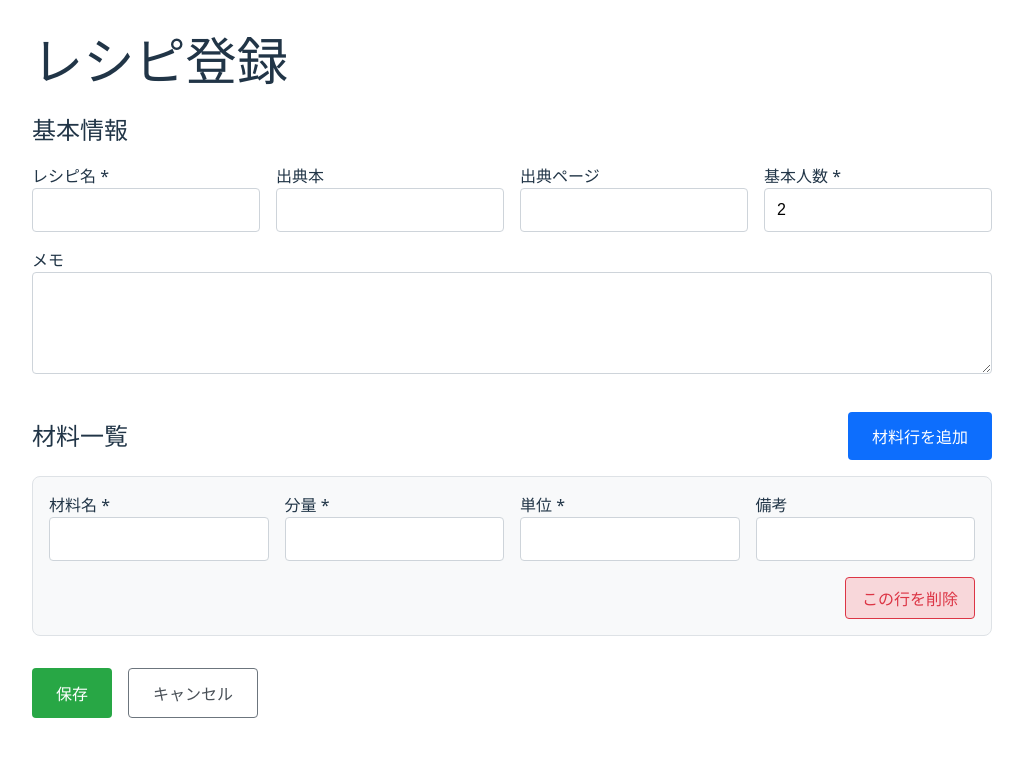
Test case: RecipeNewPage › 材料行を追加・削除し最後の1行を残す
The width and height of the screenshot is (1024, 768).
Expected: the number of fields labelled "材料名 *" is 1, [49,517,268,561]
Expected: the button "この行を削除" is disabled, [845,577,975,619]
Click the button "材料行を追加". click: (920, 436)
box: [848,412,992,460]
(page scrolled)
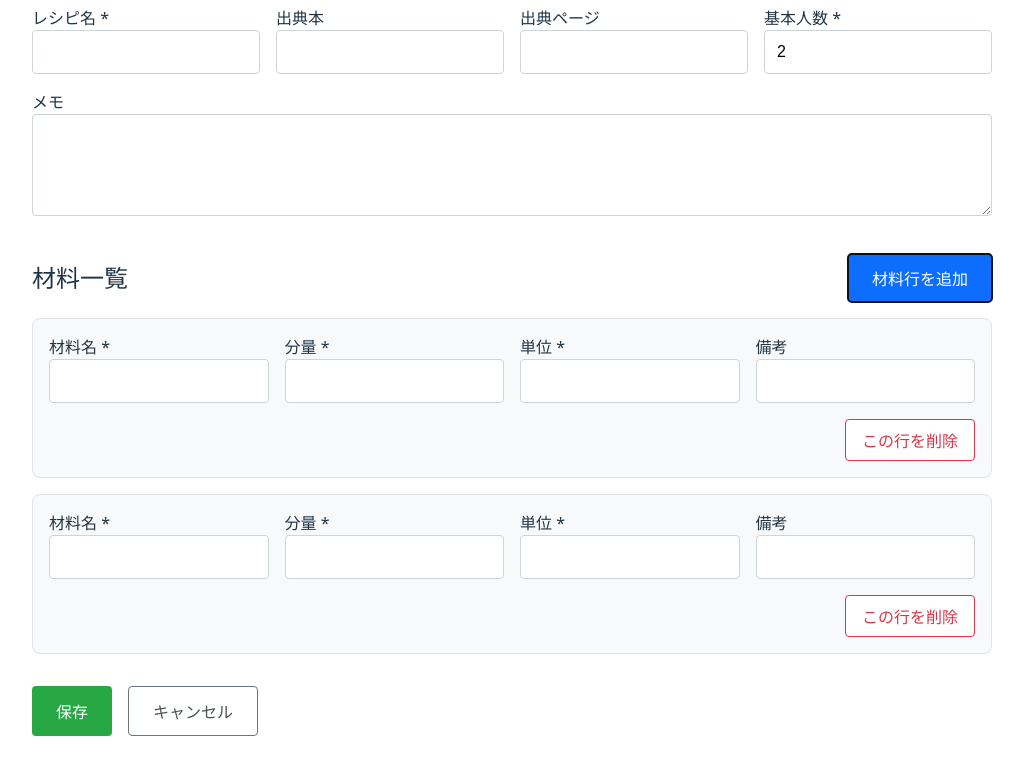
Now the number of fields labelled "材料名 *" is 2, box [49,359,268,403]; [49,535,268,579]
Click the 2nd button "この行を削除". click: (910, 616)
box: [845,595,975,637]
(page scrolled)
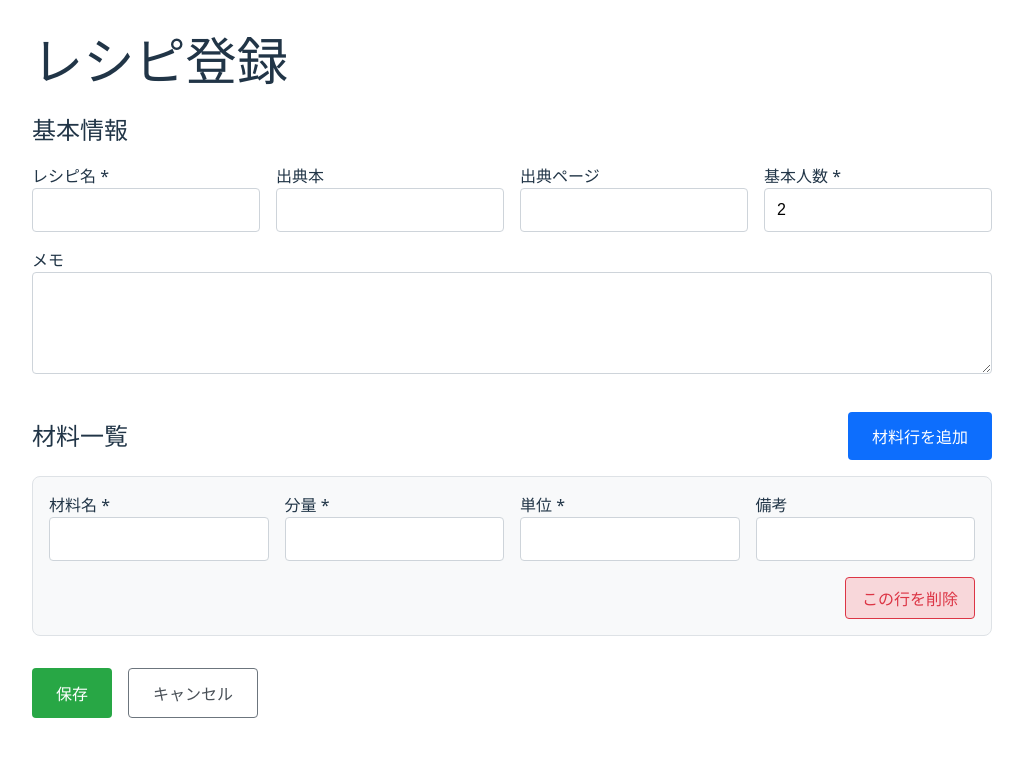
Now the number of fields labelled "材料名 *" is 1, box [49,517,268,561]
Now the button "この行を削除" is disabled, box [845,577,975,619]
